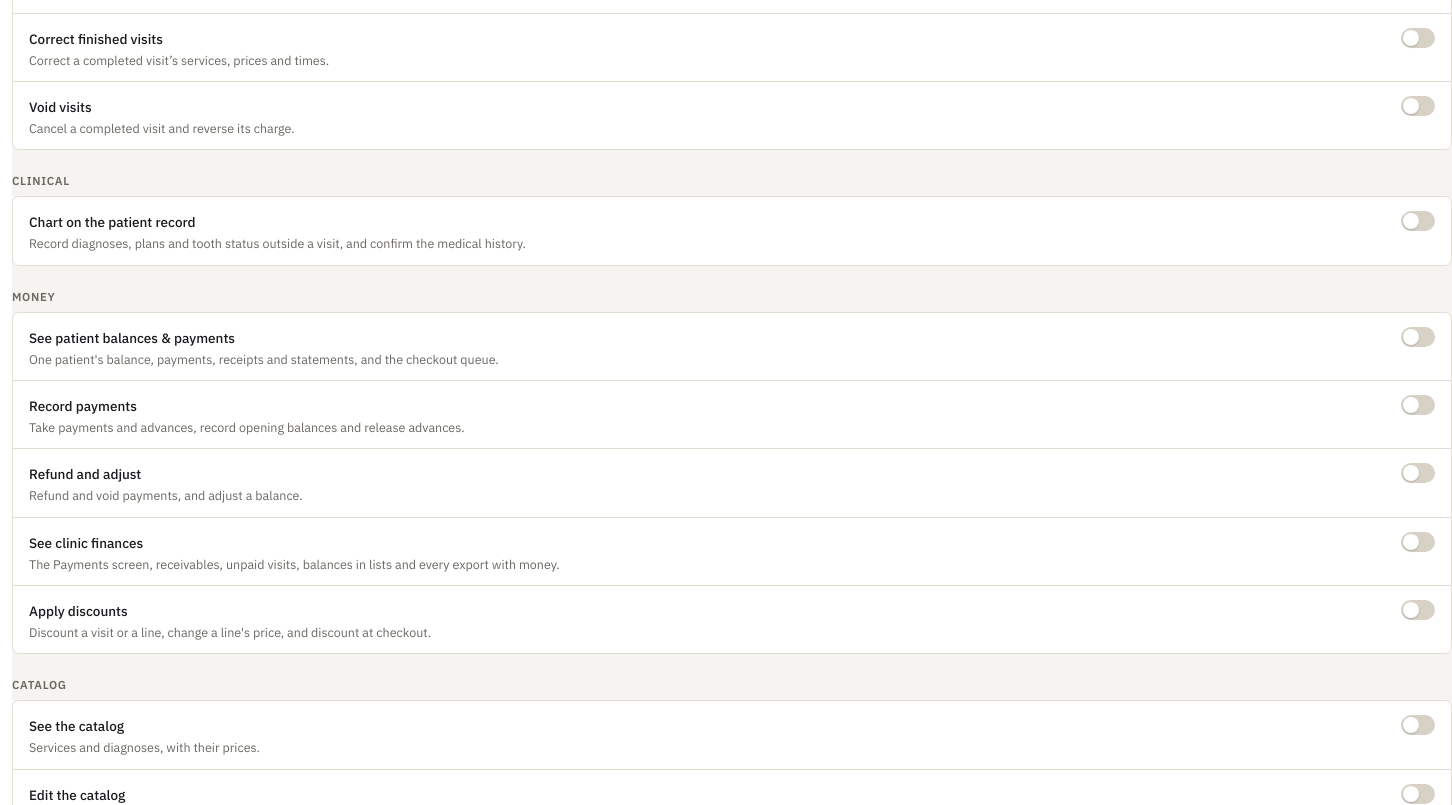
Test: CapabilityMatrix (ADR-0055) › ticks and locks what a permission needs, and frees it again
(page scrolled)
Click the switch named "Record payments" at (1418, 405), box [1401,395,1435,415]
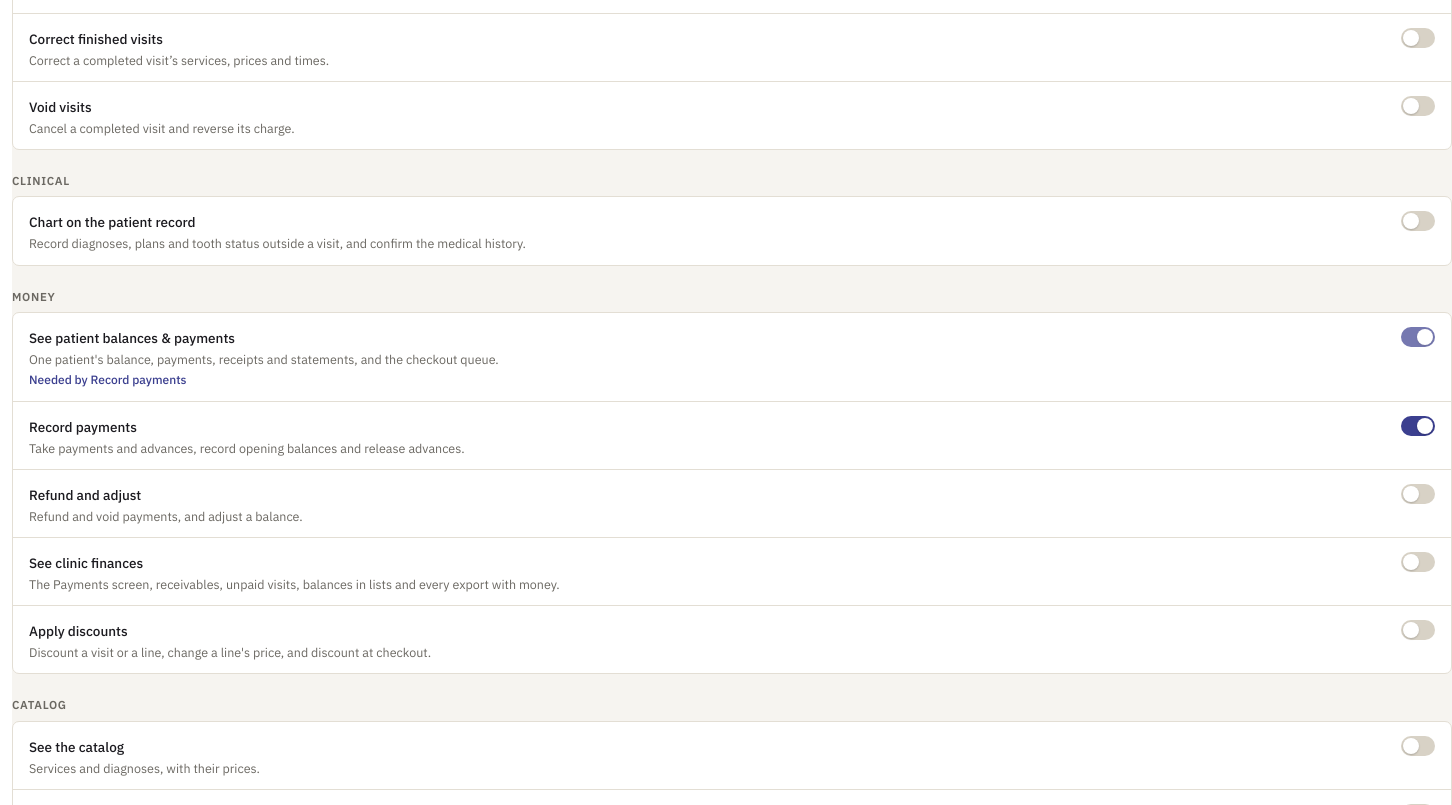
Expected: the switch named "See patient balances & payments" is disabled, [1401,327,1435,347]
Expected: the text "Needed by Record payments" is shown, [29,372,186,387]
Click the switch named "Record payments" at (1418, 426), box [1401,416,1435,436]
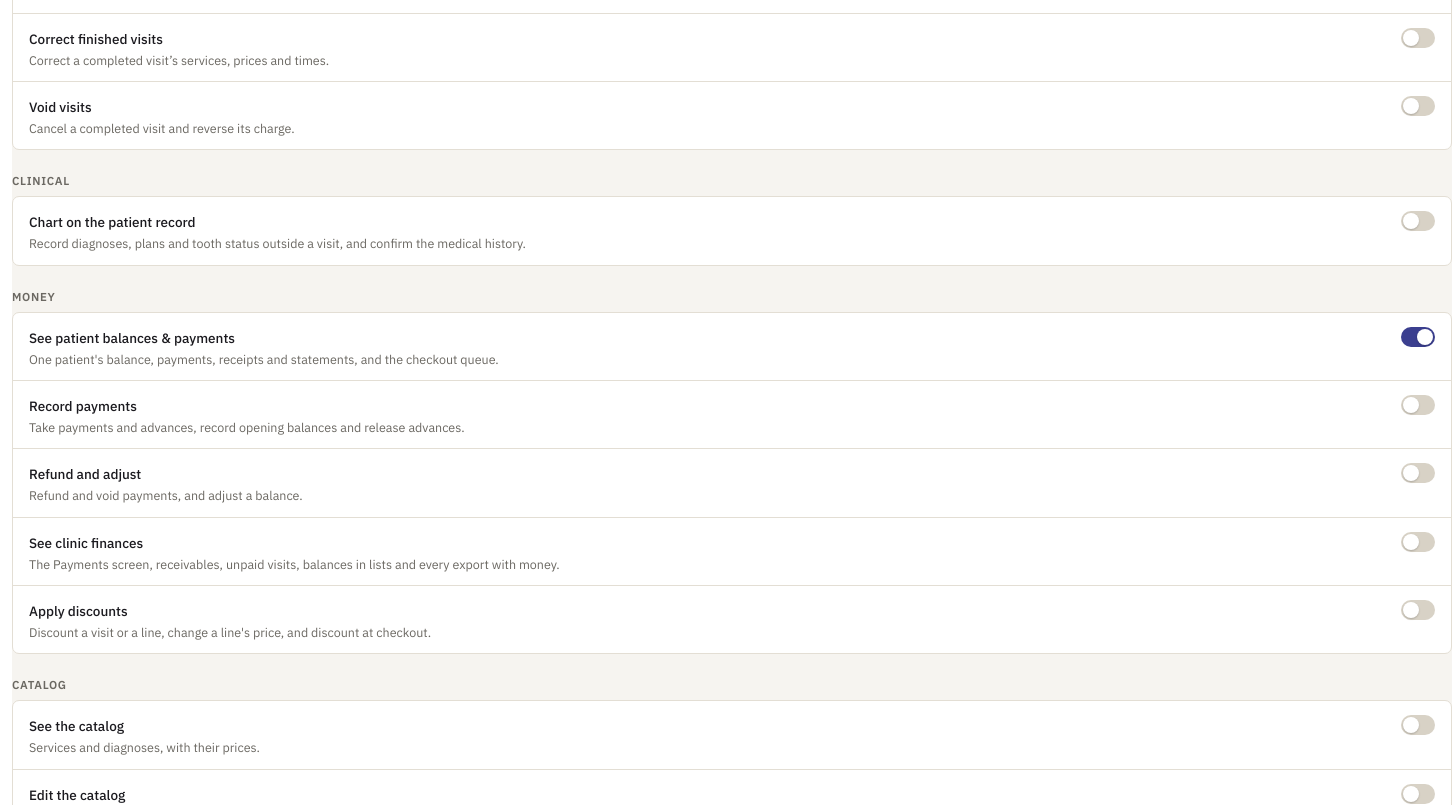
Expected: the switch named "See patient balances & payments" is enabled, [1401,327,1435,347]
